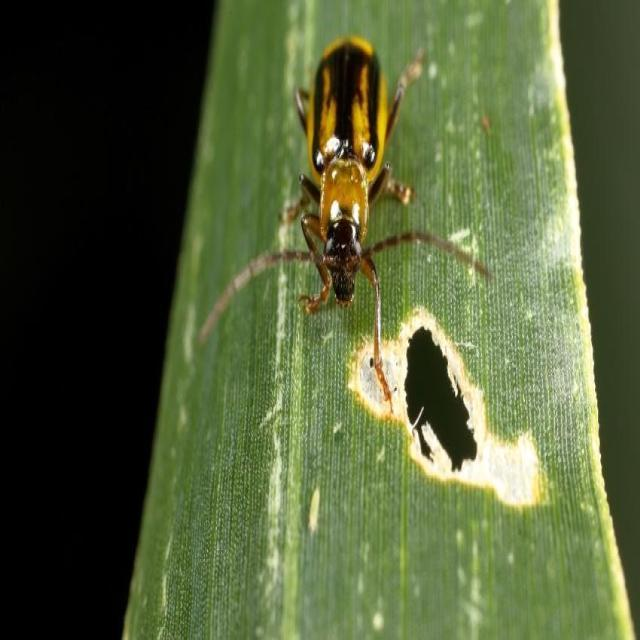trips: (198, 37, 494, 417)
